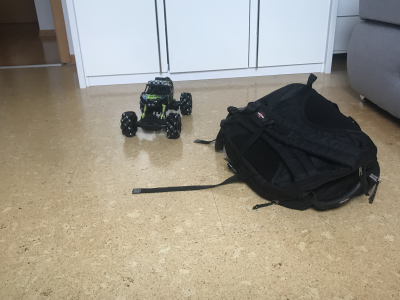remote control car: (119, 73, 194, 141)
